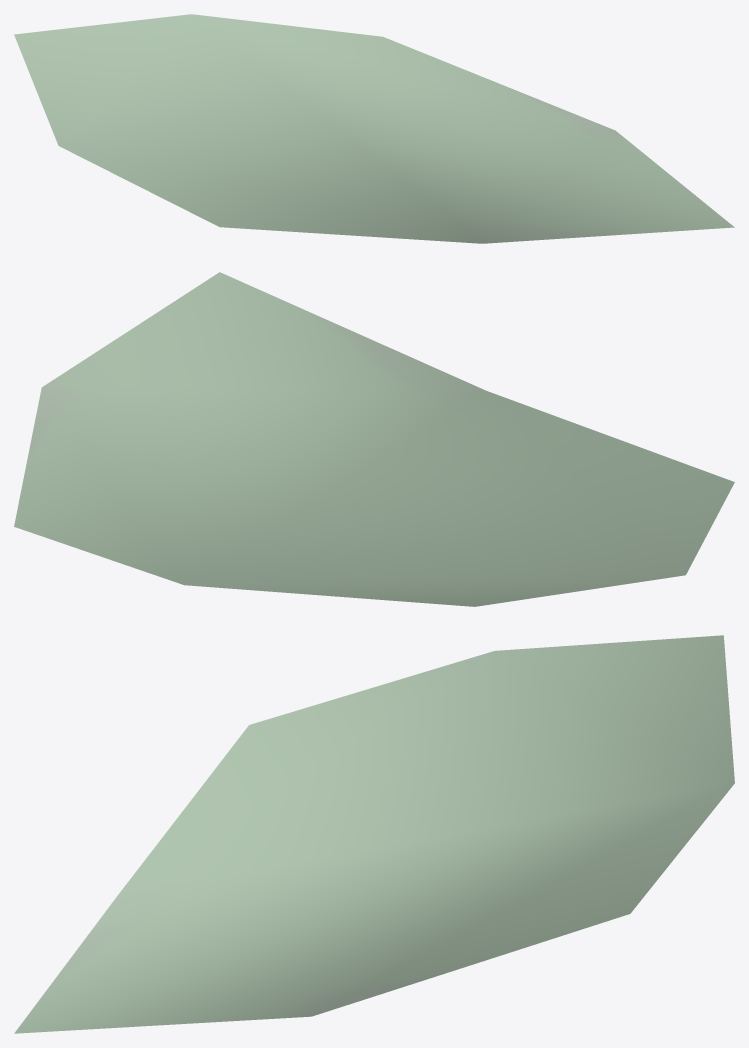
Rendered from TROLLHOLE02_HOLECAP67.fbx.
The picture shows the model from 3 angles, top to bottom: view 1: azimuth 30°, elevation 25°; view 2: azimuth 150°, elevation 25°; view 3: azimuth 270°, elevation 25°; orthographic projection. The views are drawn at different scales.
Visible parts, largest first — view 1: TROLLHOLE02_HOLECAP67; view 2: TROLLHOLE02_HOLECAP67; view 3: TROLLHOLE02_HOLECAP67.
Part boxes in pixels (x1,y1,x2,y2): TROLLHOLE02_HOLECAP67: [14, 14, 734, 243]; TROLLHOLE02_HOLECAP67: [14, 272, 734, 606]; TROLLHOLE02_HOLECAP67: [14, 635, 734, 1033].
Size of the model in its own units: 27009 by 5130 by 27139.
Materials: 1 (1 with a texture image).
